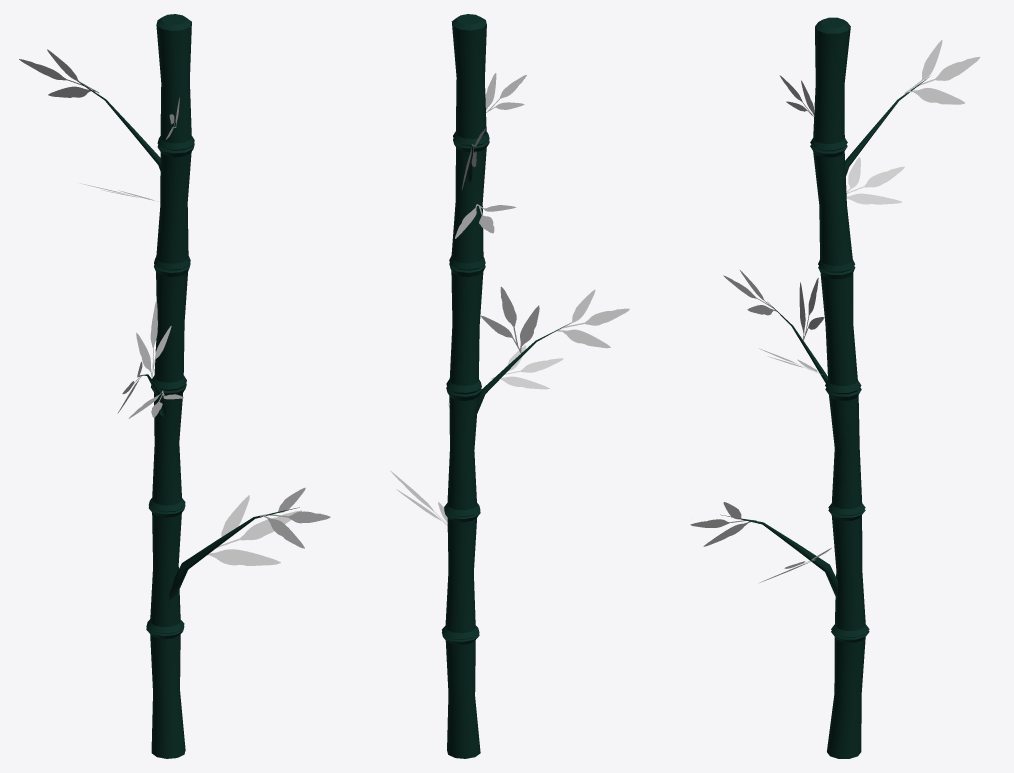
Rendered from Bambus01_v2.fbx.
3 views of the same model, side by side, from view 1: azimuth 30°, elevation 25°; view 2: azimuth 150°, elevation 25°; view 3: azimuth 270°, elevation 25° (orthographic).
Parts seen in each view (by area): view 1: Bambus01_Base, Bambus01_Leaves, Bambus01_Branches; view 2: Bambus01_Base, Bambus01_Leaves, Bambus01_Branches; view 3: Bambus01_Base, Bambus01_Leaves, Bambus01_Branches.
Part boxes in pixels (<box>): Bambus01_Base: <box>146,14,194,758</box>; Bambus01_Leaves: <box>19,49,330,565</box>; Bambus01_Branches: <box>77,81,299,600</box>; Bambus01_Base: <box>442,14,489,758</box>; Bambus01_Leaves: <box>390,73,629,525</box>; Bambus01_Branches: <box>465,146,567,412</box>; Bambus01_Base: <box>810,17,869,758</box>; Bambus01_Leaves: <box>690,40,980,583</box>; Bambus01_Branches: <box>720,77,928,598</box>.
Size of the model in its own units: 228 by 700 by 284.
